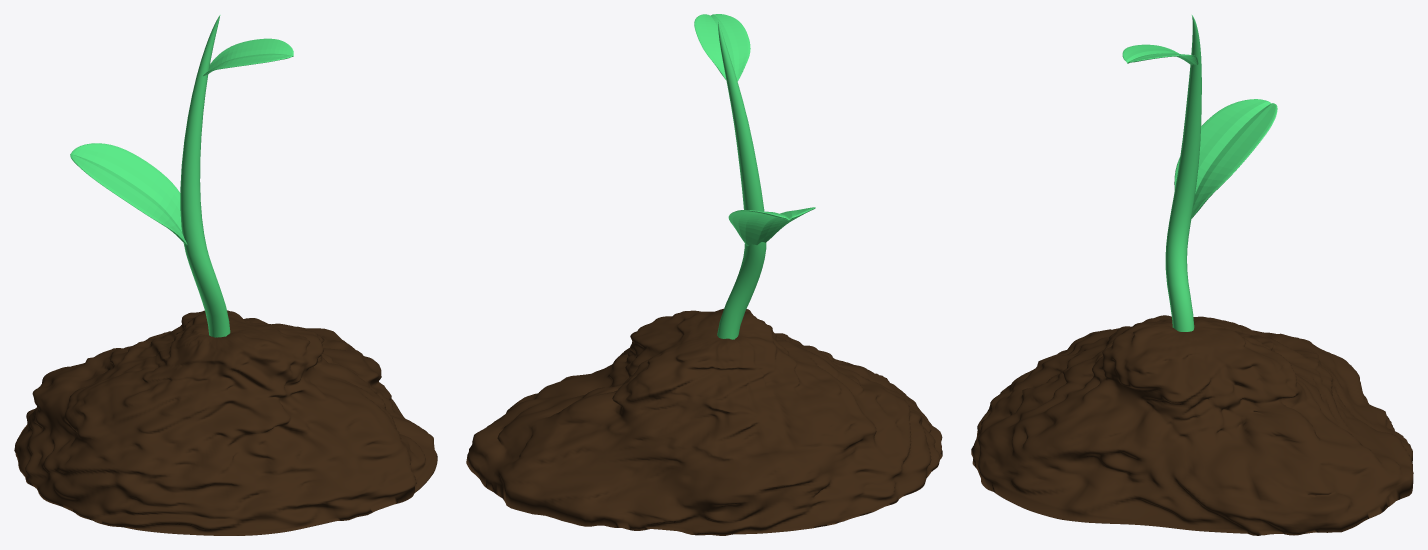
File: agrio-model.glb
3 renders of one model, left to right at view 1: azimuth 30°, elevation 25°; view 2: azimuth 150°, elevation 25°; view 3: azimuth 270°, elevation 25°, orthographic.
Parts seen in each view (by area): view 1: Cylinder.003, BézierCurve, Plane, Plane.001; view 2: Cylinder.003, BézierCurve, Plane.001, Plane; view 3: Cylinder.003, BézierCurve, Plane, Plane.001.
Boxes of the visible parts, x1,y1,x2,y2 form: Cylinder.003: (14,310,437,535); BézierCurve: (180,15,230,337); Plane: (70,143,187,245); Plane.001: (203,38,293,76); Cylinder.003: (466,308,942,535); BézierCurve: (717,21,766,339); Plane.001: (694,14,750,81); Plane: (728,207,815,245); Cylinder.003: (971,315,1413,535); BézierCurve: (1165,15,1201,331); Plane: (1174,99,1277,219); Plane.001: (1122,44,1198,65).
Bounding box in the file's own units: 0.9014 × 0.9866 × 0.9161.
